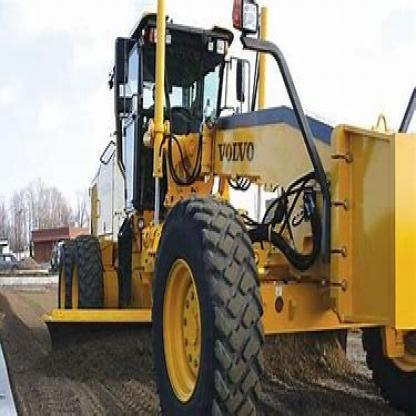bull_dozer/loader/grader: (47, 13, 414, 414)
